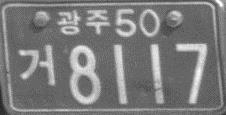0: (138, 7, 160, 37)
1: (110, 42, 131, 107), (147, 41, 166, 107)
5: (114, 7, 137, 37)
7: (173, 41, 209, 104)
8: (67, 44, 102, 104)
거: (17, 43, 56, 87)
광주_O: (56, 8, 109, 36)
